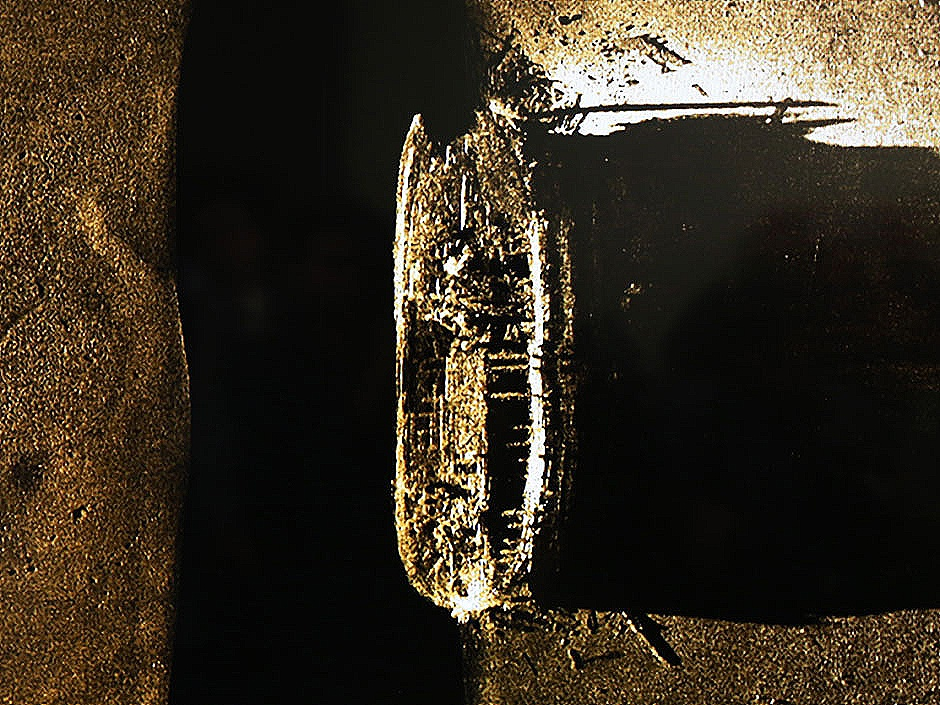ship: (392, 106, 582, 626)
